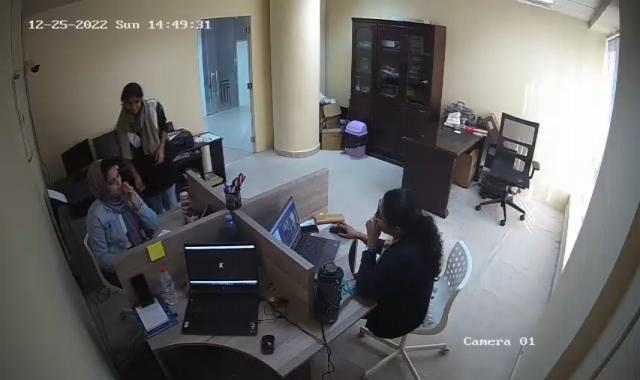no_hairnet: (375, 189, 421, 234), (88, 158, 123, 200), (121, 82, 146, 116)
